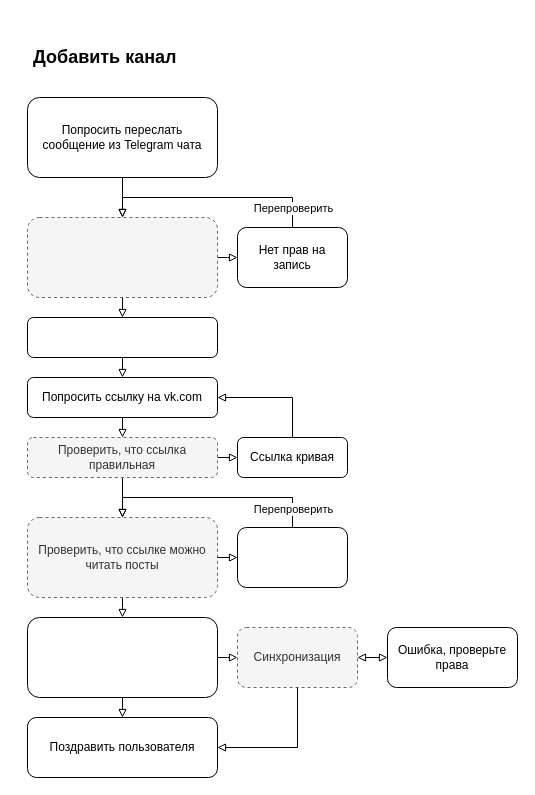
Image size: 535x795. Some labels were removed from this diagram. The centre of each missing label's shape, as x and y in pixels:
Написать имя и id канала: (122,337)
Нет прав на чтение стены: (292,557)
Нужно ли синхронизировать аватарку и название канала?: (122,657)
Проверить, что бот может писать в телеграм канал: (122,257)
